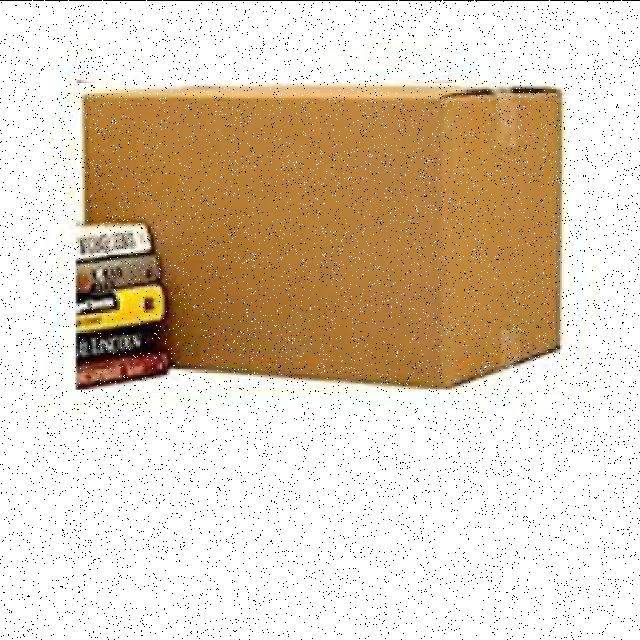normal: (76, 82, 570, 389)
